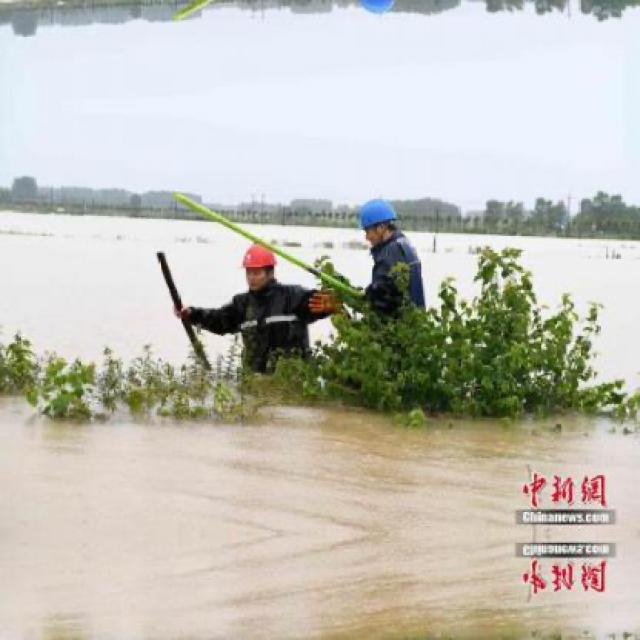helmet: (354, 196, 400, 247), (238, 244, 278, 292), (354, 0, 401, 19)
